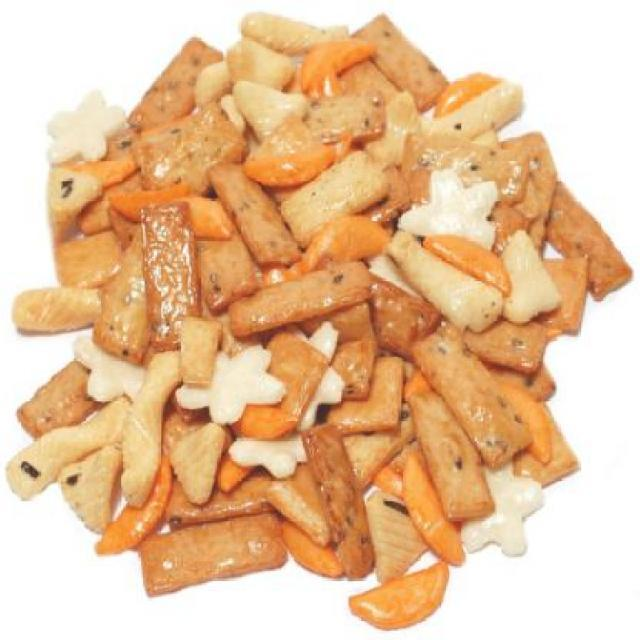Salatini packaged: (11, 9, 614, 616)
